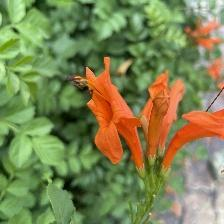honeysuckle: (75, 60, 155, 170)
